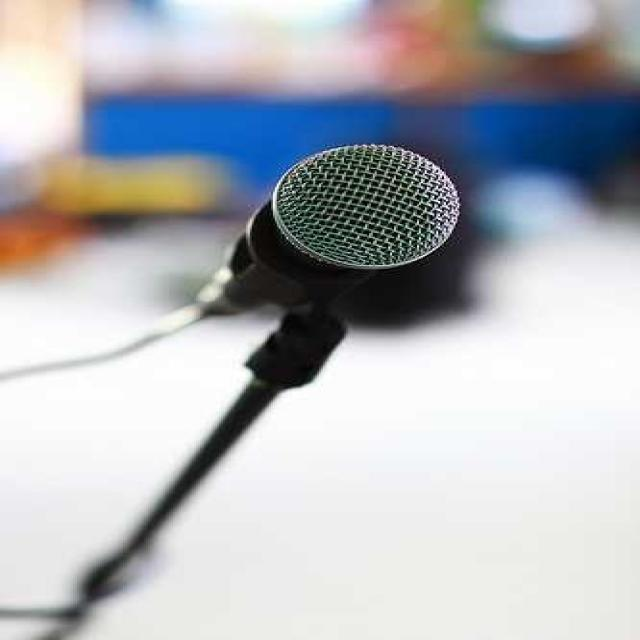microphone: (208, 142, 459, 327)
